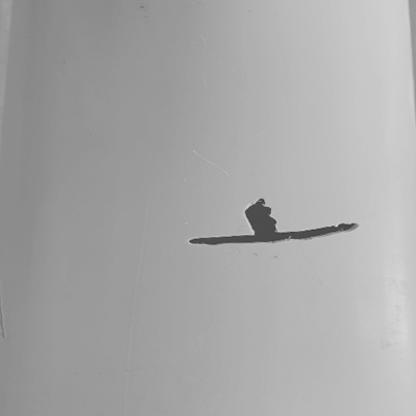fengxi: (189, 222, 361, 246)
kongdong: (243, 197, 283, 233)
